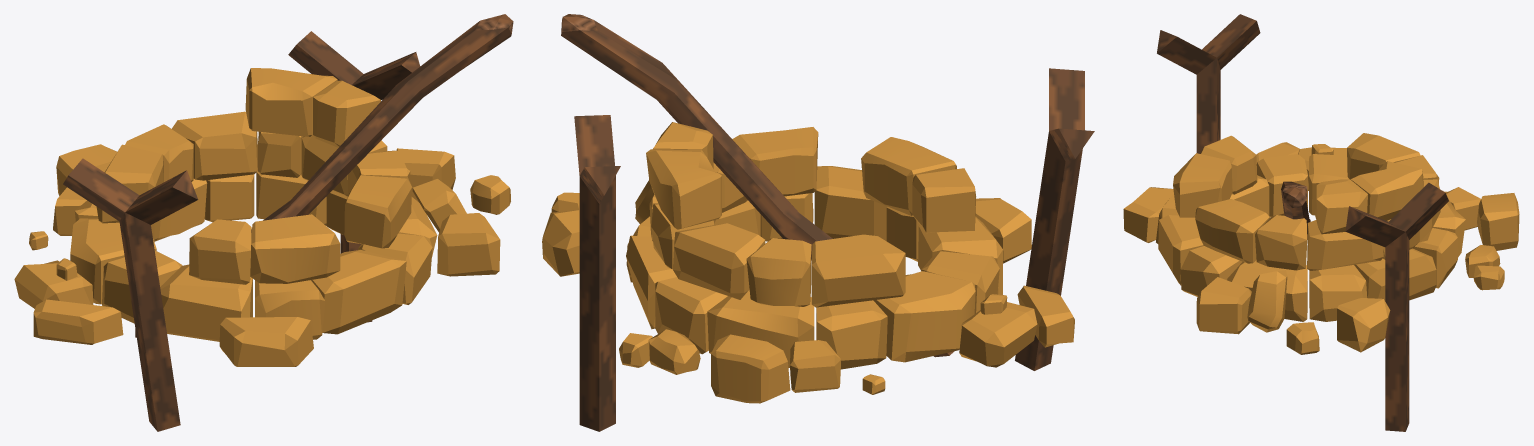
File: Well_GreatlyDamaged.fbx
3 views of the same model, side by side, from view 1: azimuth 30°, elevation 25°; view 2: azimuth 150°, elevation 25°; view 3: azimuth 270°, elevation 25° (orthographic). The views are drawn at different scales.
Parts seen in each view (by area): view 1: well greatly damaged; view 2: well greatly damaged; view 3: well greatly damaged.
Part boxes in pixels (left/top/right/bottom): well greatly damaged: left=14, top=14, right=513, bottom=431; well greatly damaged: left=542, top=14, right=1094, bottom=431; well greatly damaged: left=1123, top=14, right=1519, bottom=431.
Size of the model in its own units: 202 by 129 by 170.
